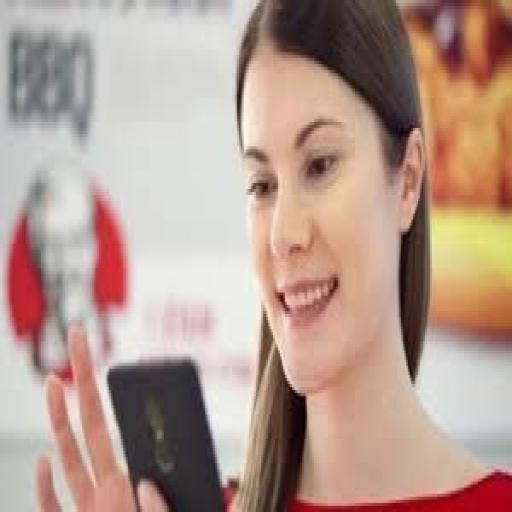texting: (32, 0, 508, 509)
